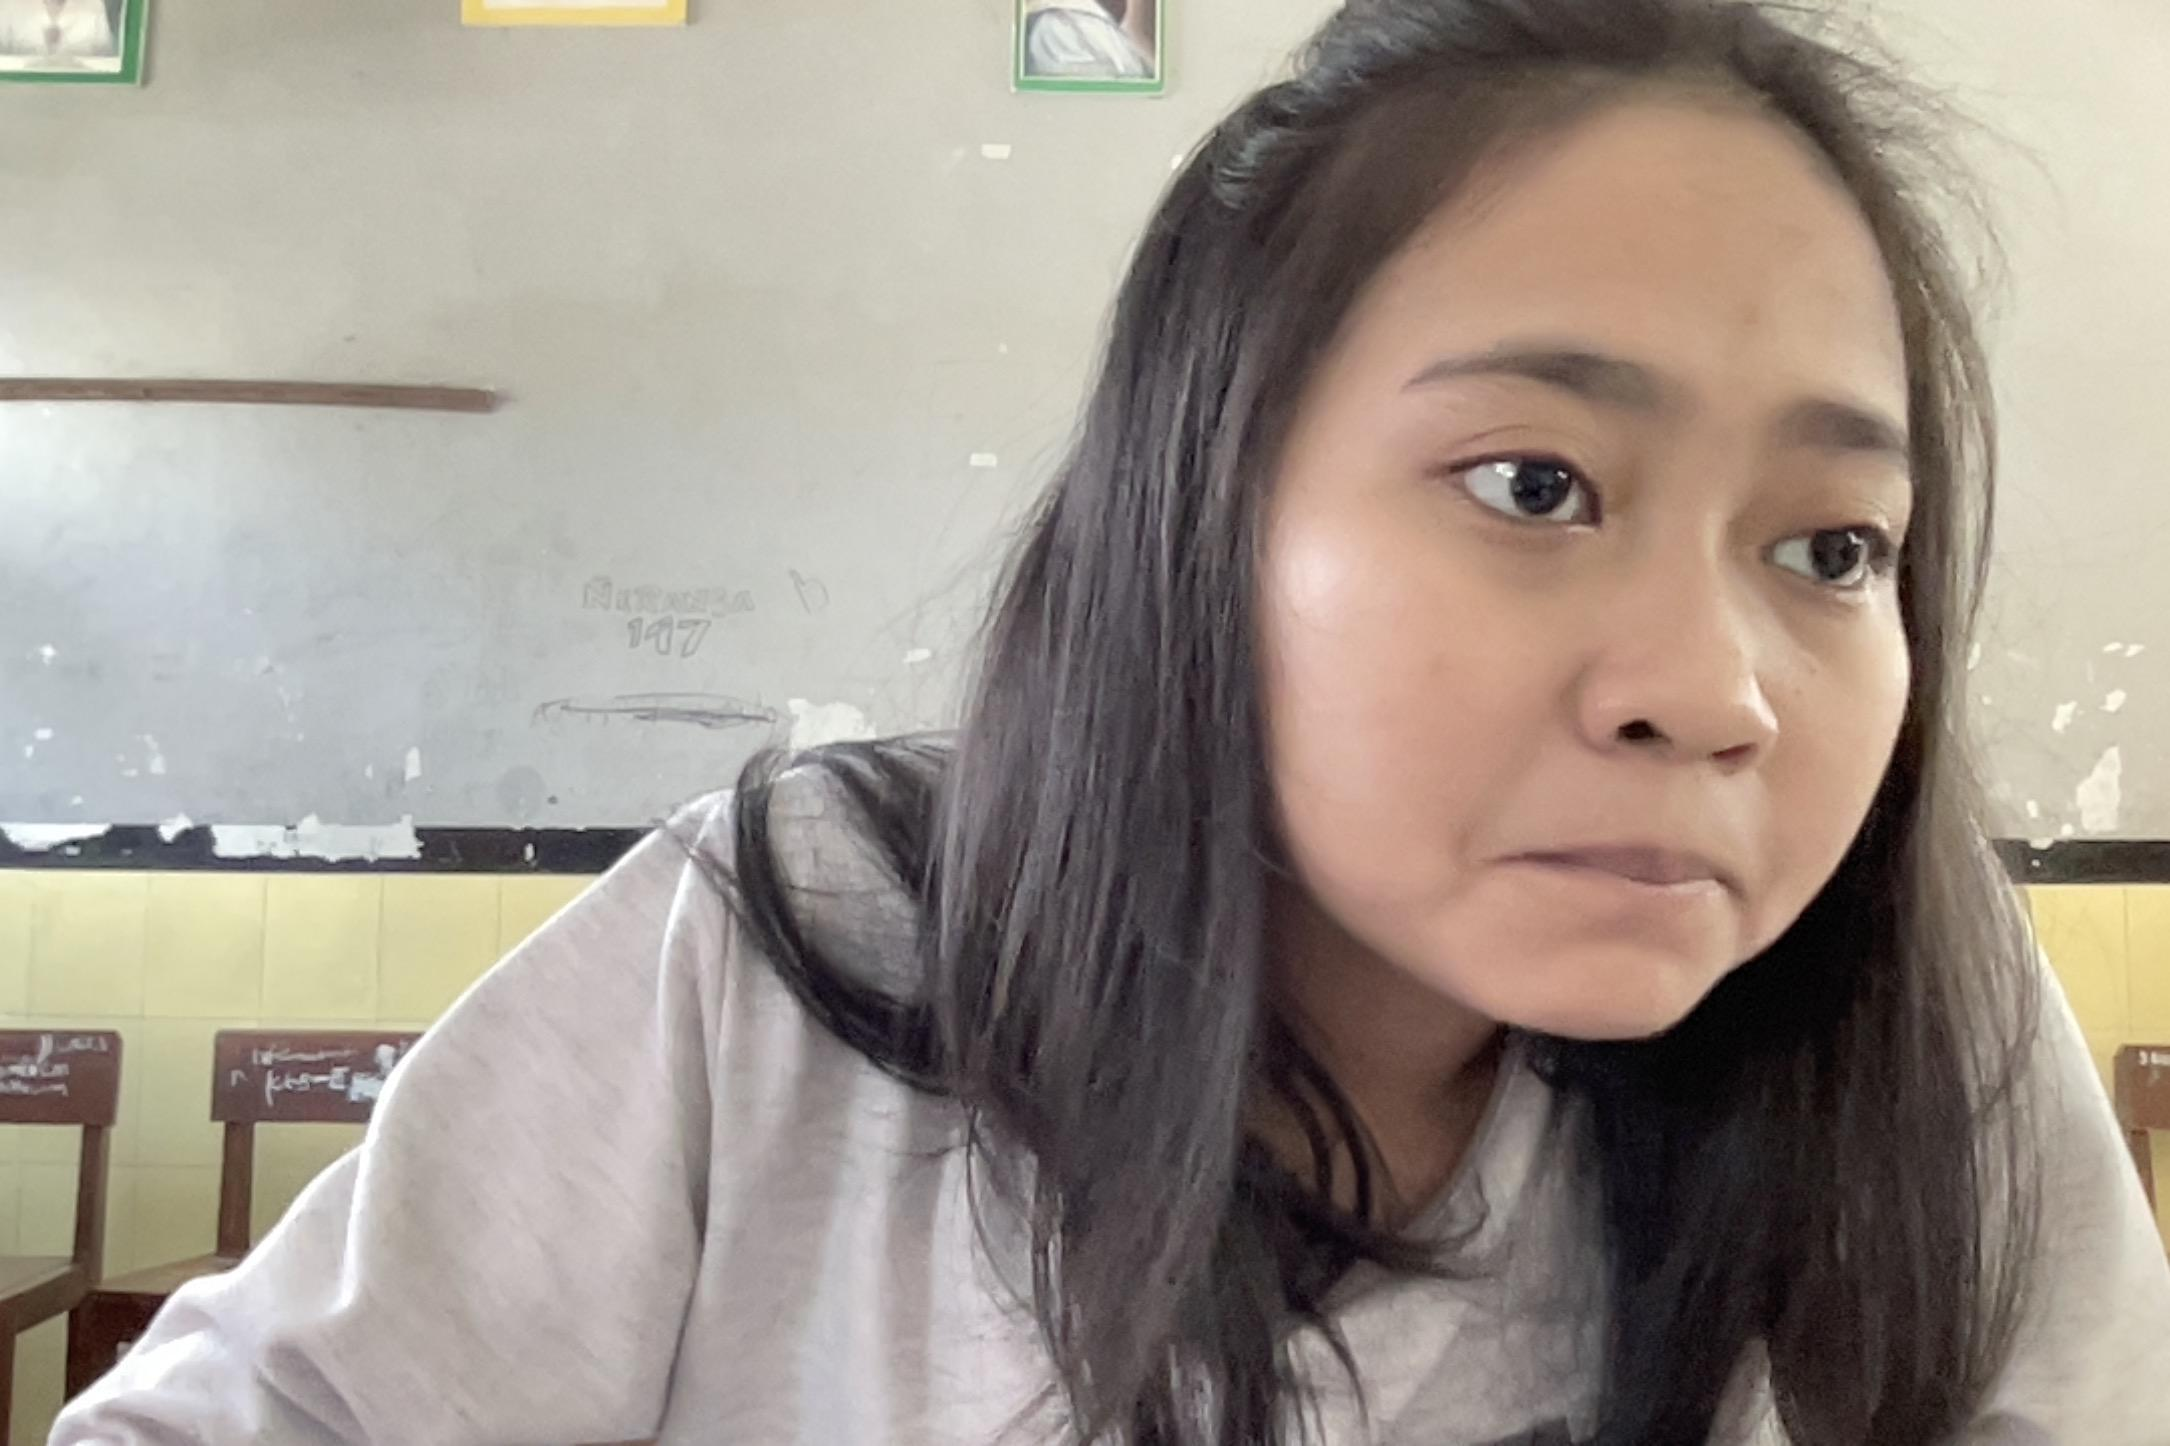cheating: (24, 11, 2170, 1446)
